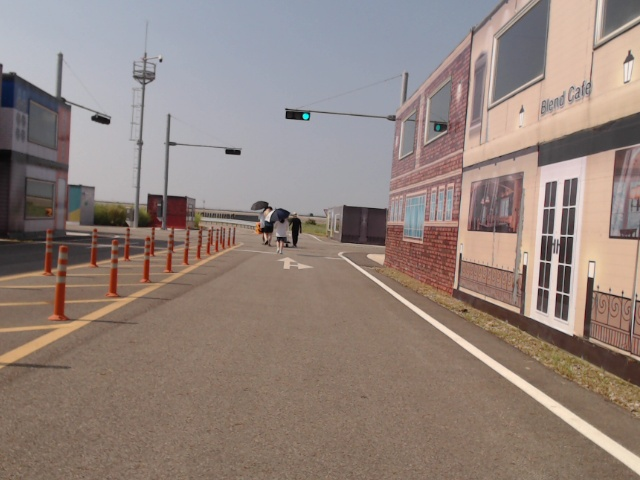green_3: (285, 110, 310, 122)
